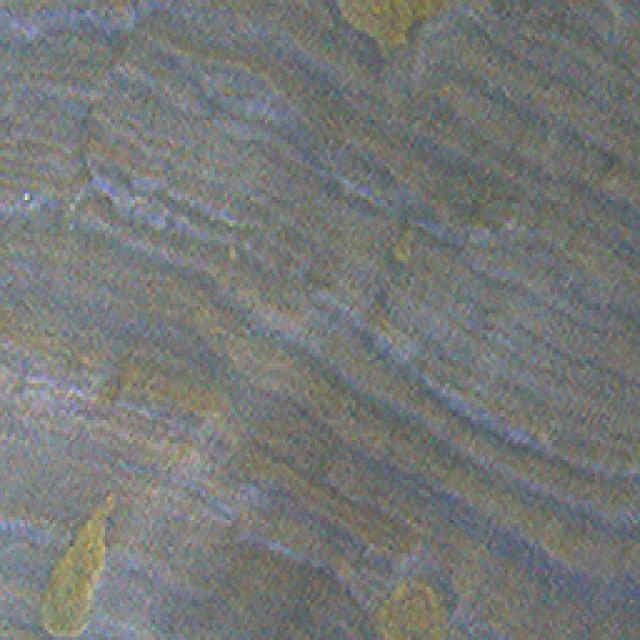Crater: (314, 0, 477, 53), (372, 570, 460, 640)
